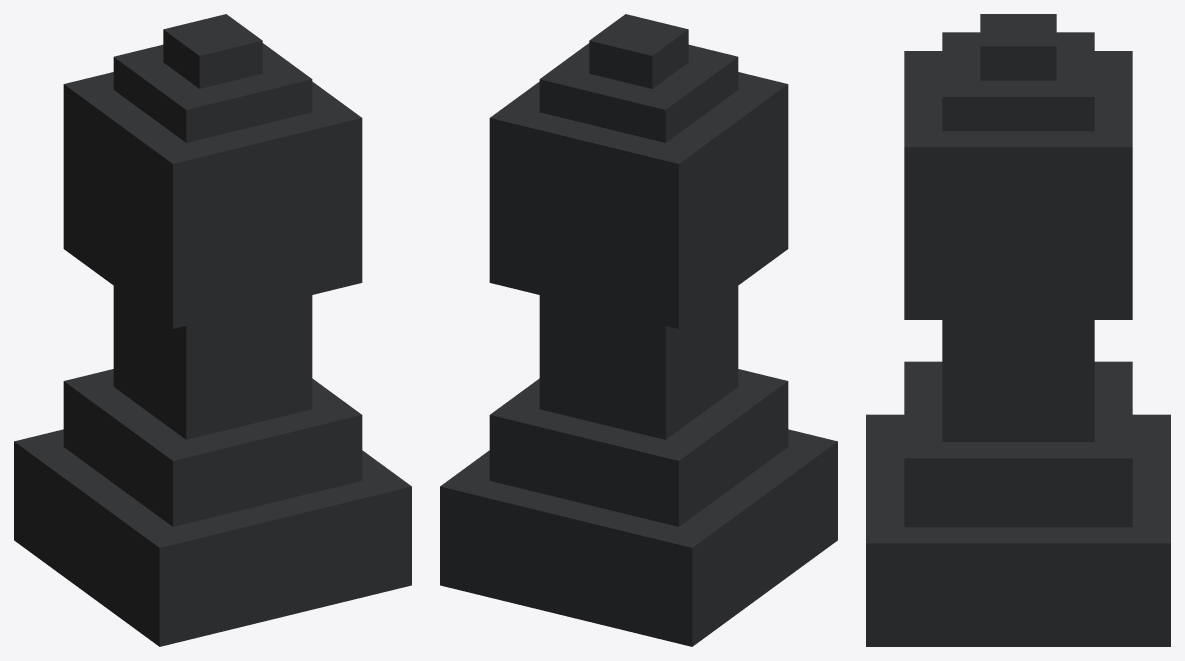
Rendered from token-v3-black.gltf.
3 renders of one model, left to right at view 1: azimuth 30°, elevation 25°; view 2: azimuth 150°, elevation 25°; view 3: azimuth 270°, elevation 25°, orthographic. The views are drawn at different scales.
Visible parts, largest first — view 1: Untitled; view 2: Untitled; view 3: Untitled.
Boxes of the visible parts, x1,y1,x2,y2 form: Untitled: (14,14,411,646); Untitled: (440,14,837,646); Untitled: (866,14,1170,646).
Size of the model in its own units: 0.8 by 1.6 by 0.8.
Materials: 1 (1 with a texture image).
